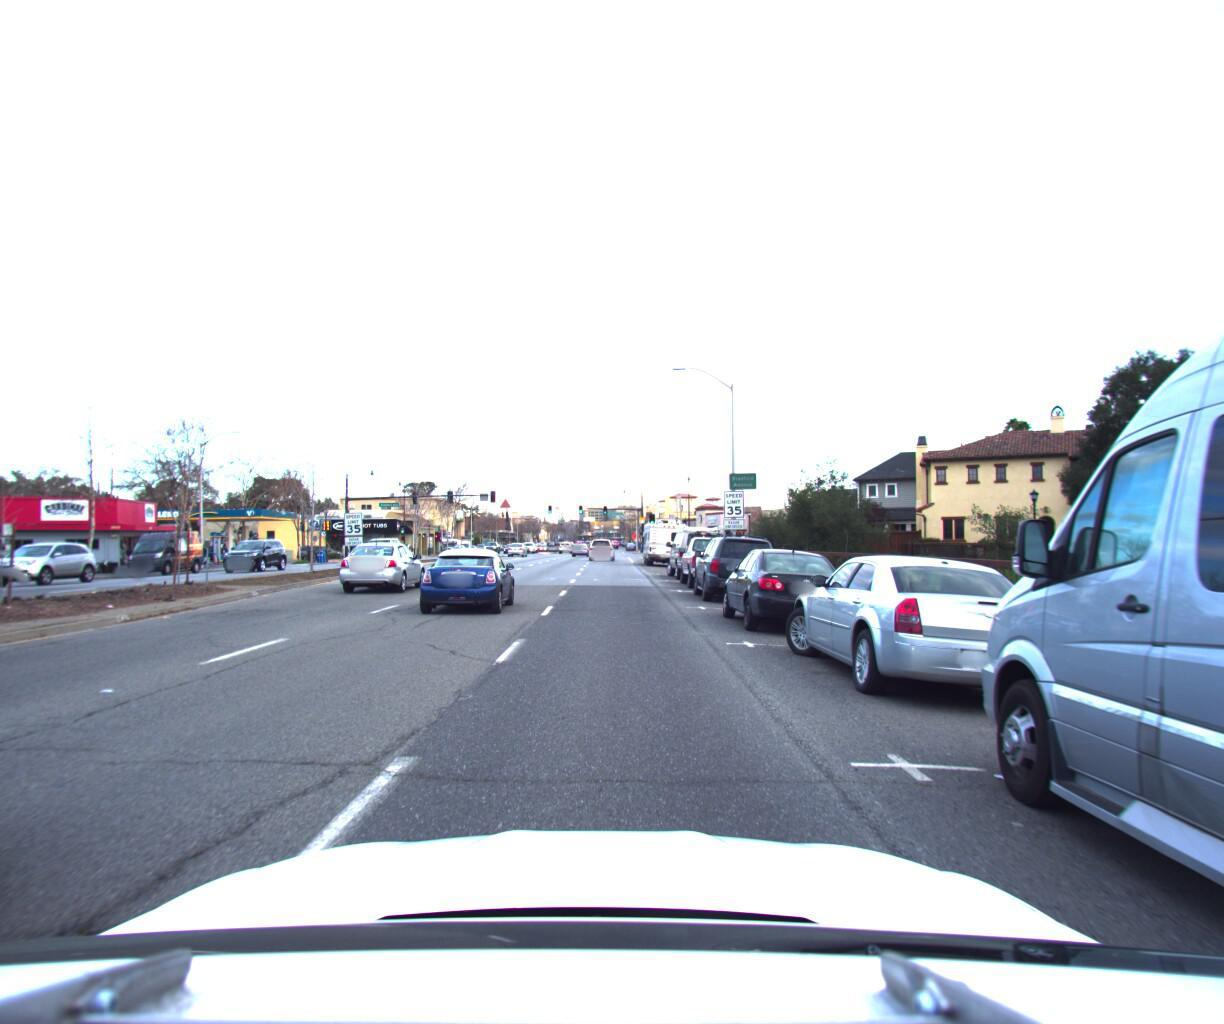bicycle: (99, 543, 115, 565)
car: (772, 542, 1088, 727), (711, 538, 851, 636), (413, 539, 521, 611), (686, 522, 783, 601), (334, 535, 431, 591), (677, 521, 751, 585), (219, 531, 289, 567), (585, 529, 614, 552), (504, 533, 528, 549), (569, 537, 591, 554)
truck: (118, 521, 209, 569), (664, 513, 728, 575), (639, 508, 688, 560)
